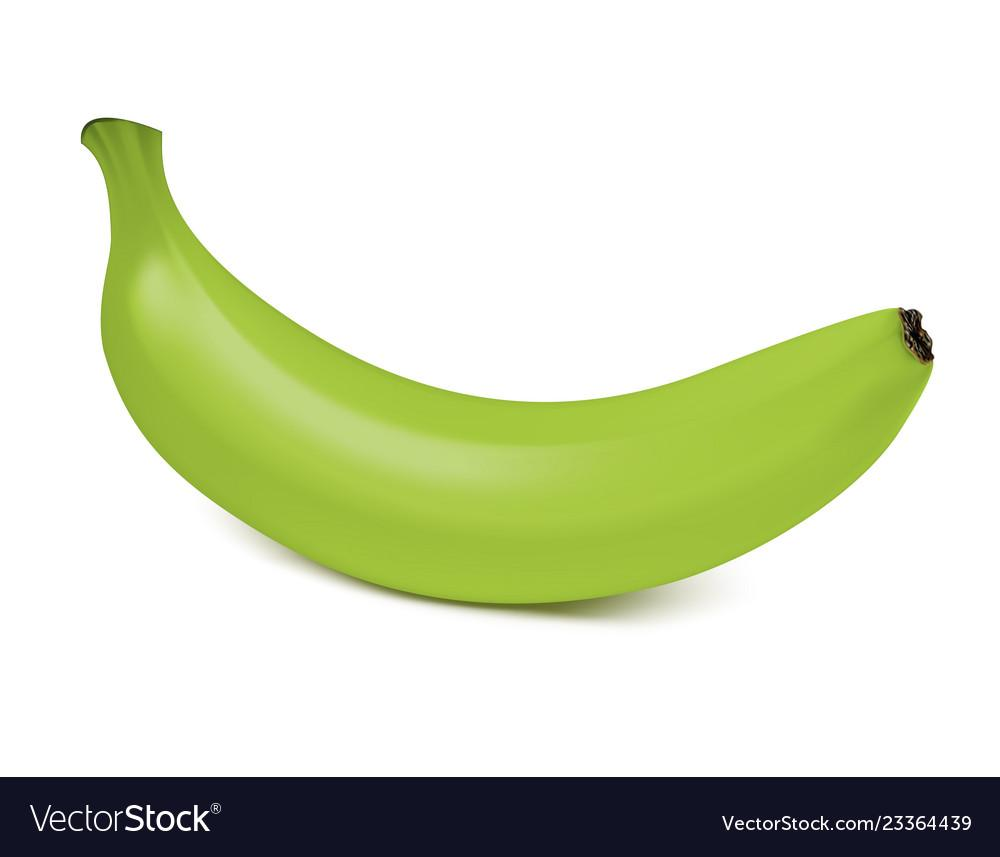Banana Unripe: (18, 82, 1000, 682)
